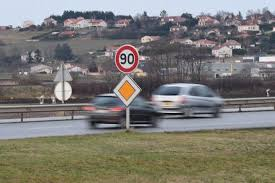Speed_limit_90km: (115, 43, 140, 74)
